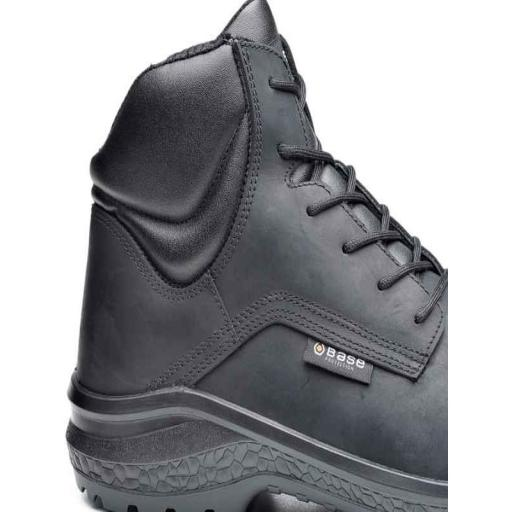safety_boots: (67, 203, 468, 509)
